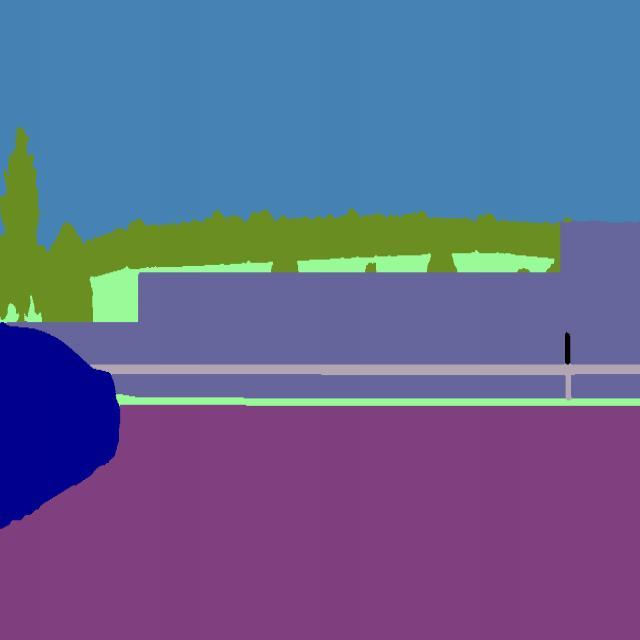unsafe: (0, 322, 124, 540)
